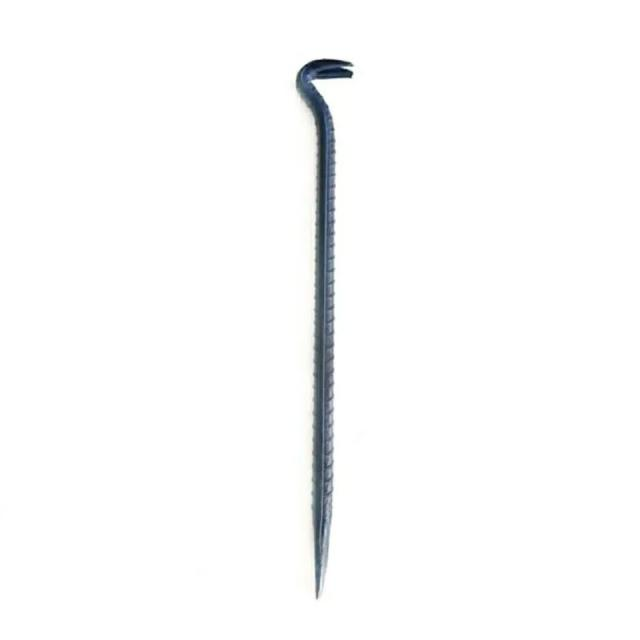Linggis: (299, 60, 357, 602)
